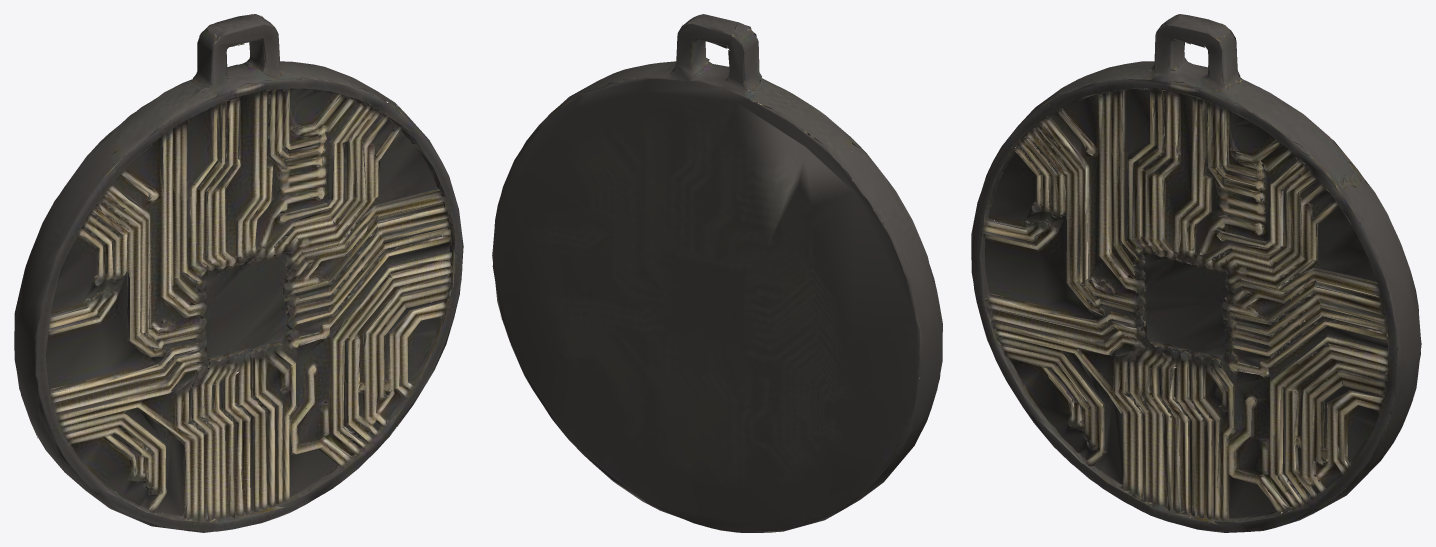
The model's file is piece_charm_coin.glb.
3 views of the same model, side by side, from view 1: azimuth 30°, elevation 25°; view 2: azimuth 150°, elevation 25°; view 3: azimuth 330°, elevation 25° (orthographic).
Visible parts, largest first — view 1: trait_charm_coin; view 2: trait_charm_coin; view 3: trait_charm_coin.
Part boxes in pixels (x1,y1,x2,y2): trait_charm_coin: [14, 14, 463, 532]; trait_charm_coin: [492, 14, 942, 532]; trait_charm_coin: [971, 14, 1421, 532].
Bounding box in the file's own units: 0.1557 × 0.1724 × 0.0152.
Materials: 1 (1 with a texture image).
